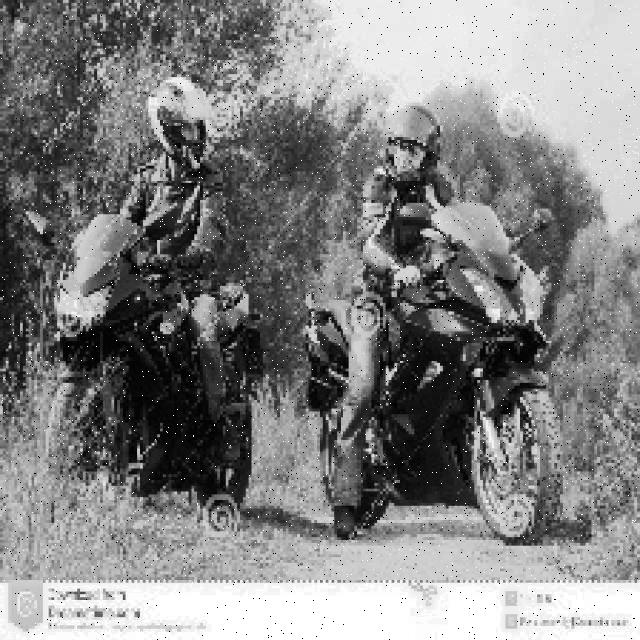Bike: (294, 235, 570, 533), (41, 221, 257, 509)
